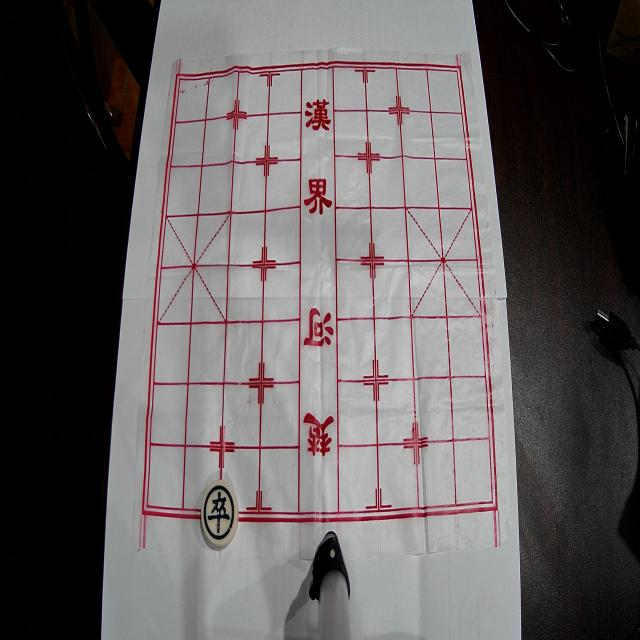black-soldier: (201, 480, 238, 547)
